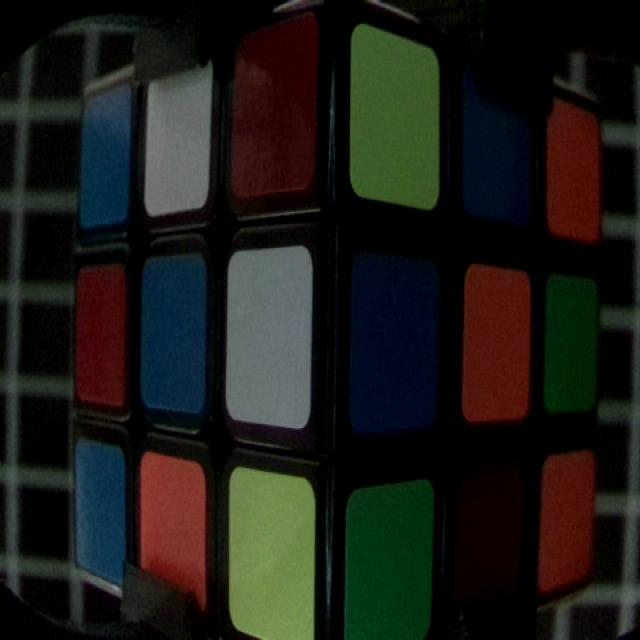b: (352, 249, 432, 415), (469, 76, 530, 223), (143, 256, 201, 407), (76, 446, 124, 578), (83, 100, 125, 220)
g: (348, 493, 428, 640), (547, 278, 597, 402)
o: (465, 265, 526, 416), (143, 452, 202, 607), (542, 459, 594, 585), (550, 101, 599, 228)
r: (232, 41, 321, 199), (466, 468, 522, 599), (75, 268, 127, 404)
w: (227, 257, 309, 415), (150, 60, 209, 212)
y: (351, 31, 440, 201), (232, 472, 313, 640)
